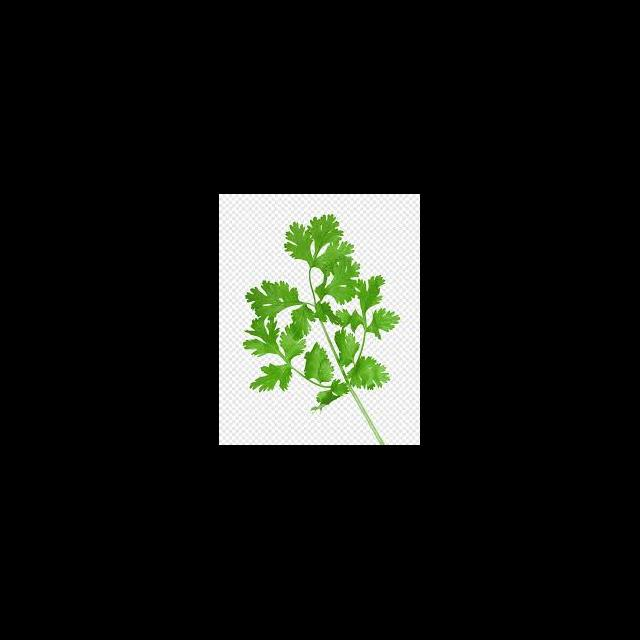cilantro: (242, 214, 402, 418)
